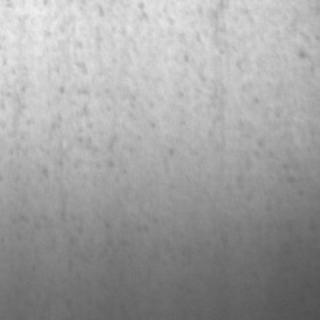pitted_surface: (19, 0, 318, 318)
